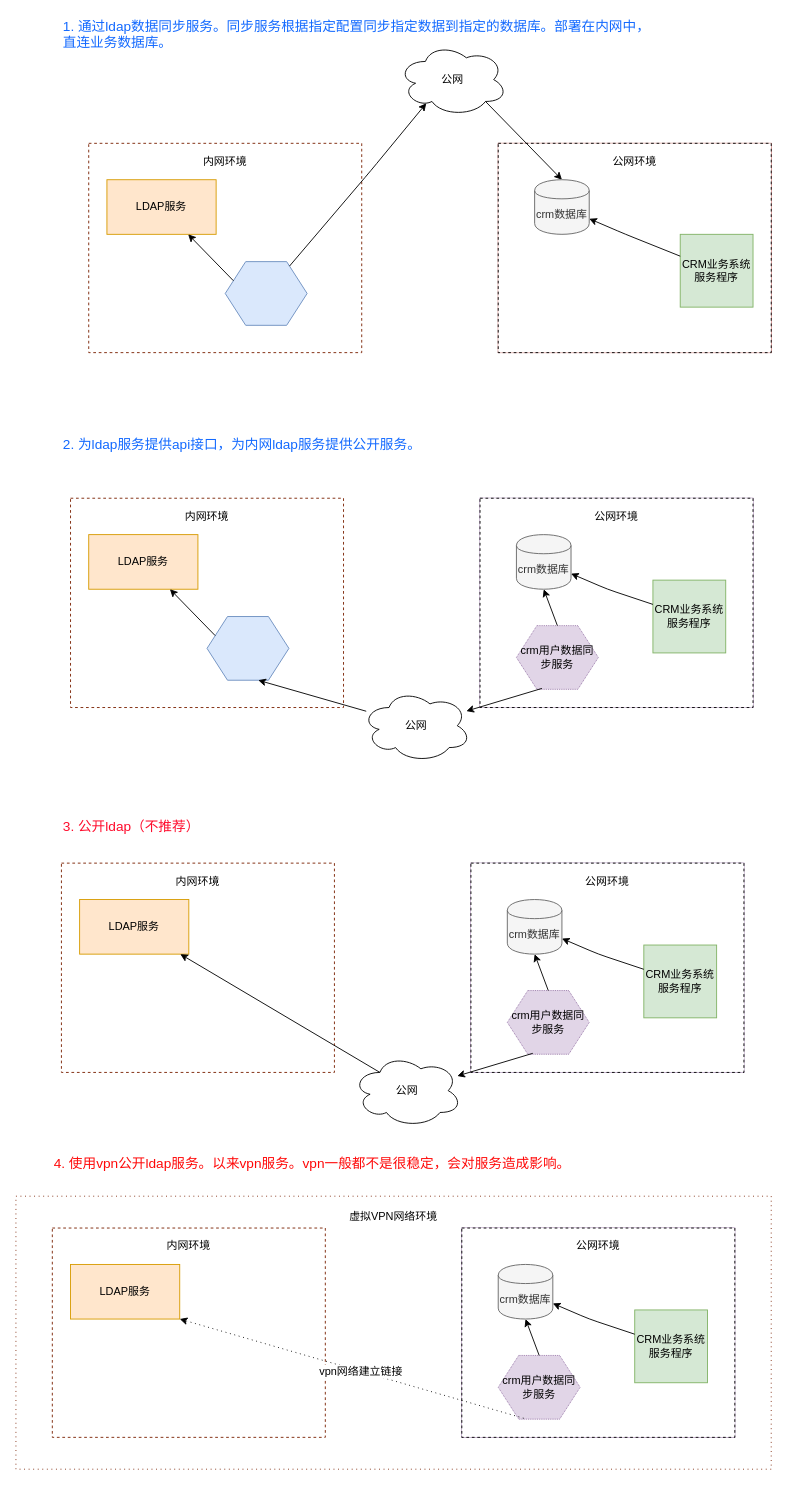
Some shapes in this 787 by 1485 pixel diagram are drawn without their labels. The box of each missing label's shape, as (x1, y1, x2, y2) in pixels:
LDAP数据 同步服务: (224, 261, 307, 325)
LDAP服务API组件: (206, 616, 289, 680)
